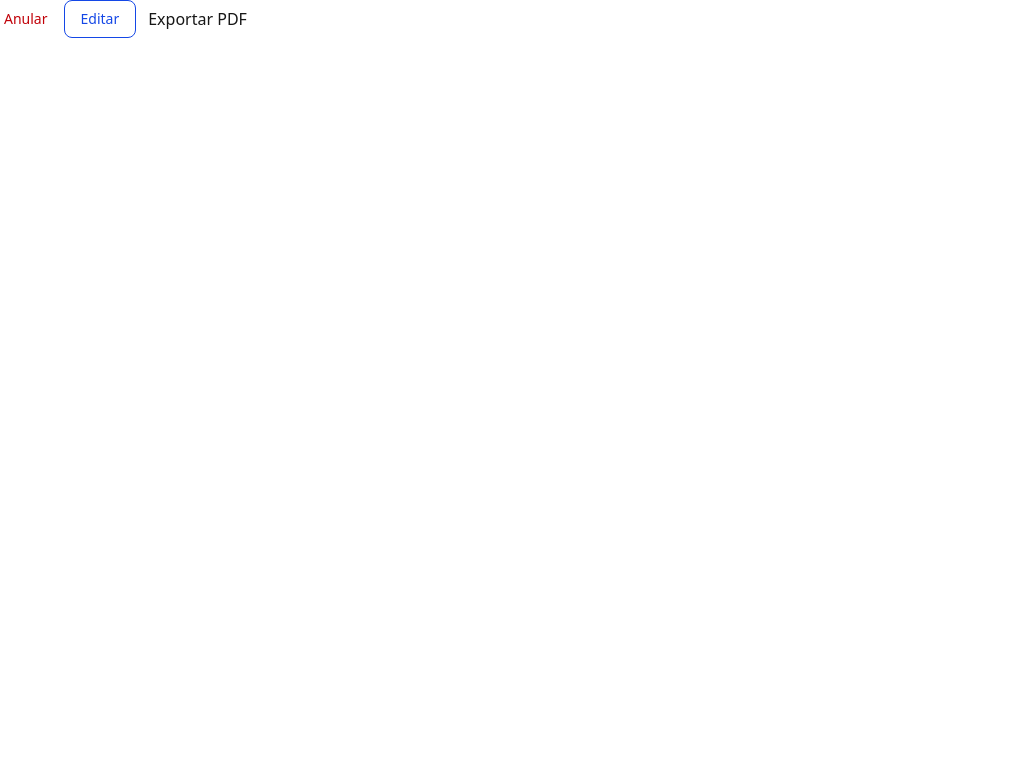
AnularMedicion avisa que se borran las fotos › desde el informe, AccionesInforme pasa la cantidad de fotos al diálogo
Click the button "Anular". click: (26, 19)
box: [0,9,52,29]
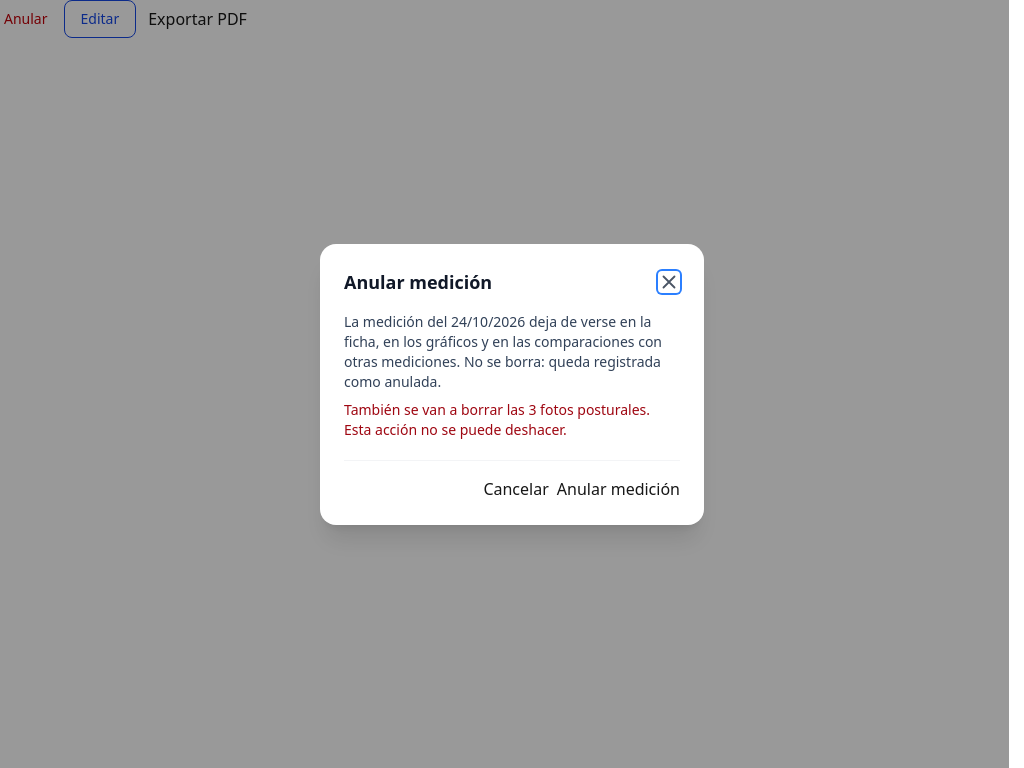
Check: the dialog shows "También se van a borrar las 3 fotos posturales. Esta acción no se puede deshacer."
